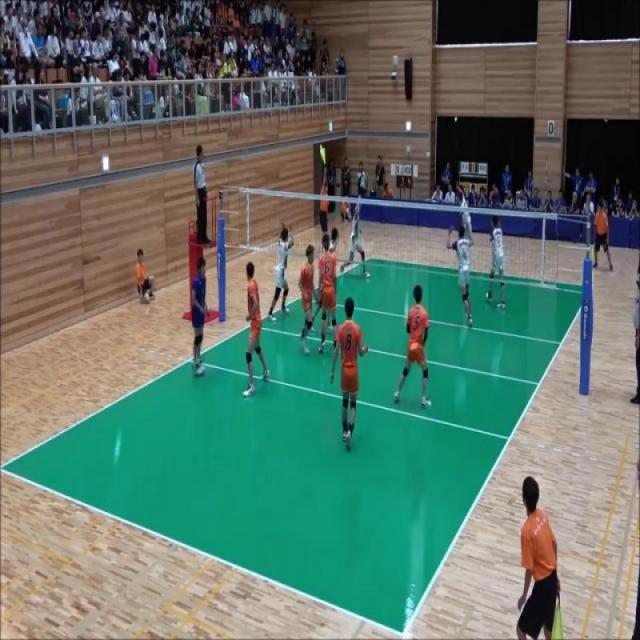volleyball: (426, 150, 430, 158), (346, 207, 348, 215)
